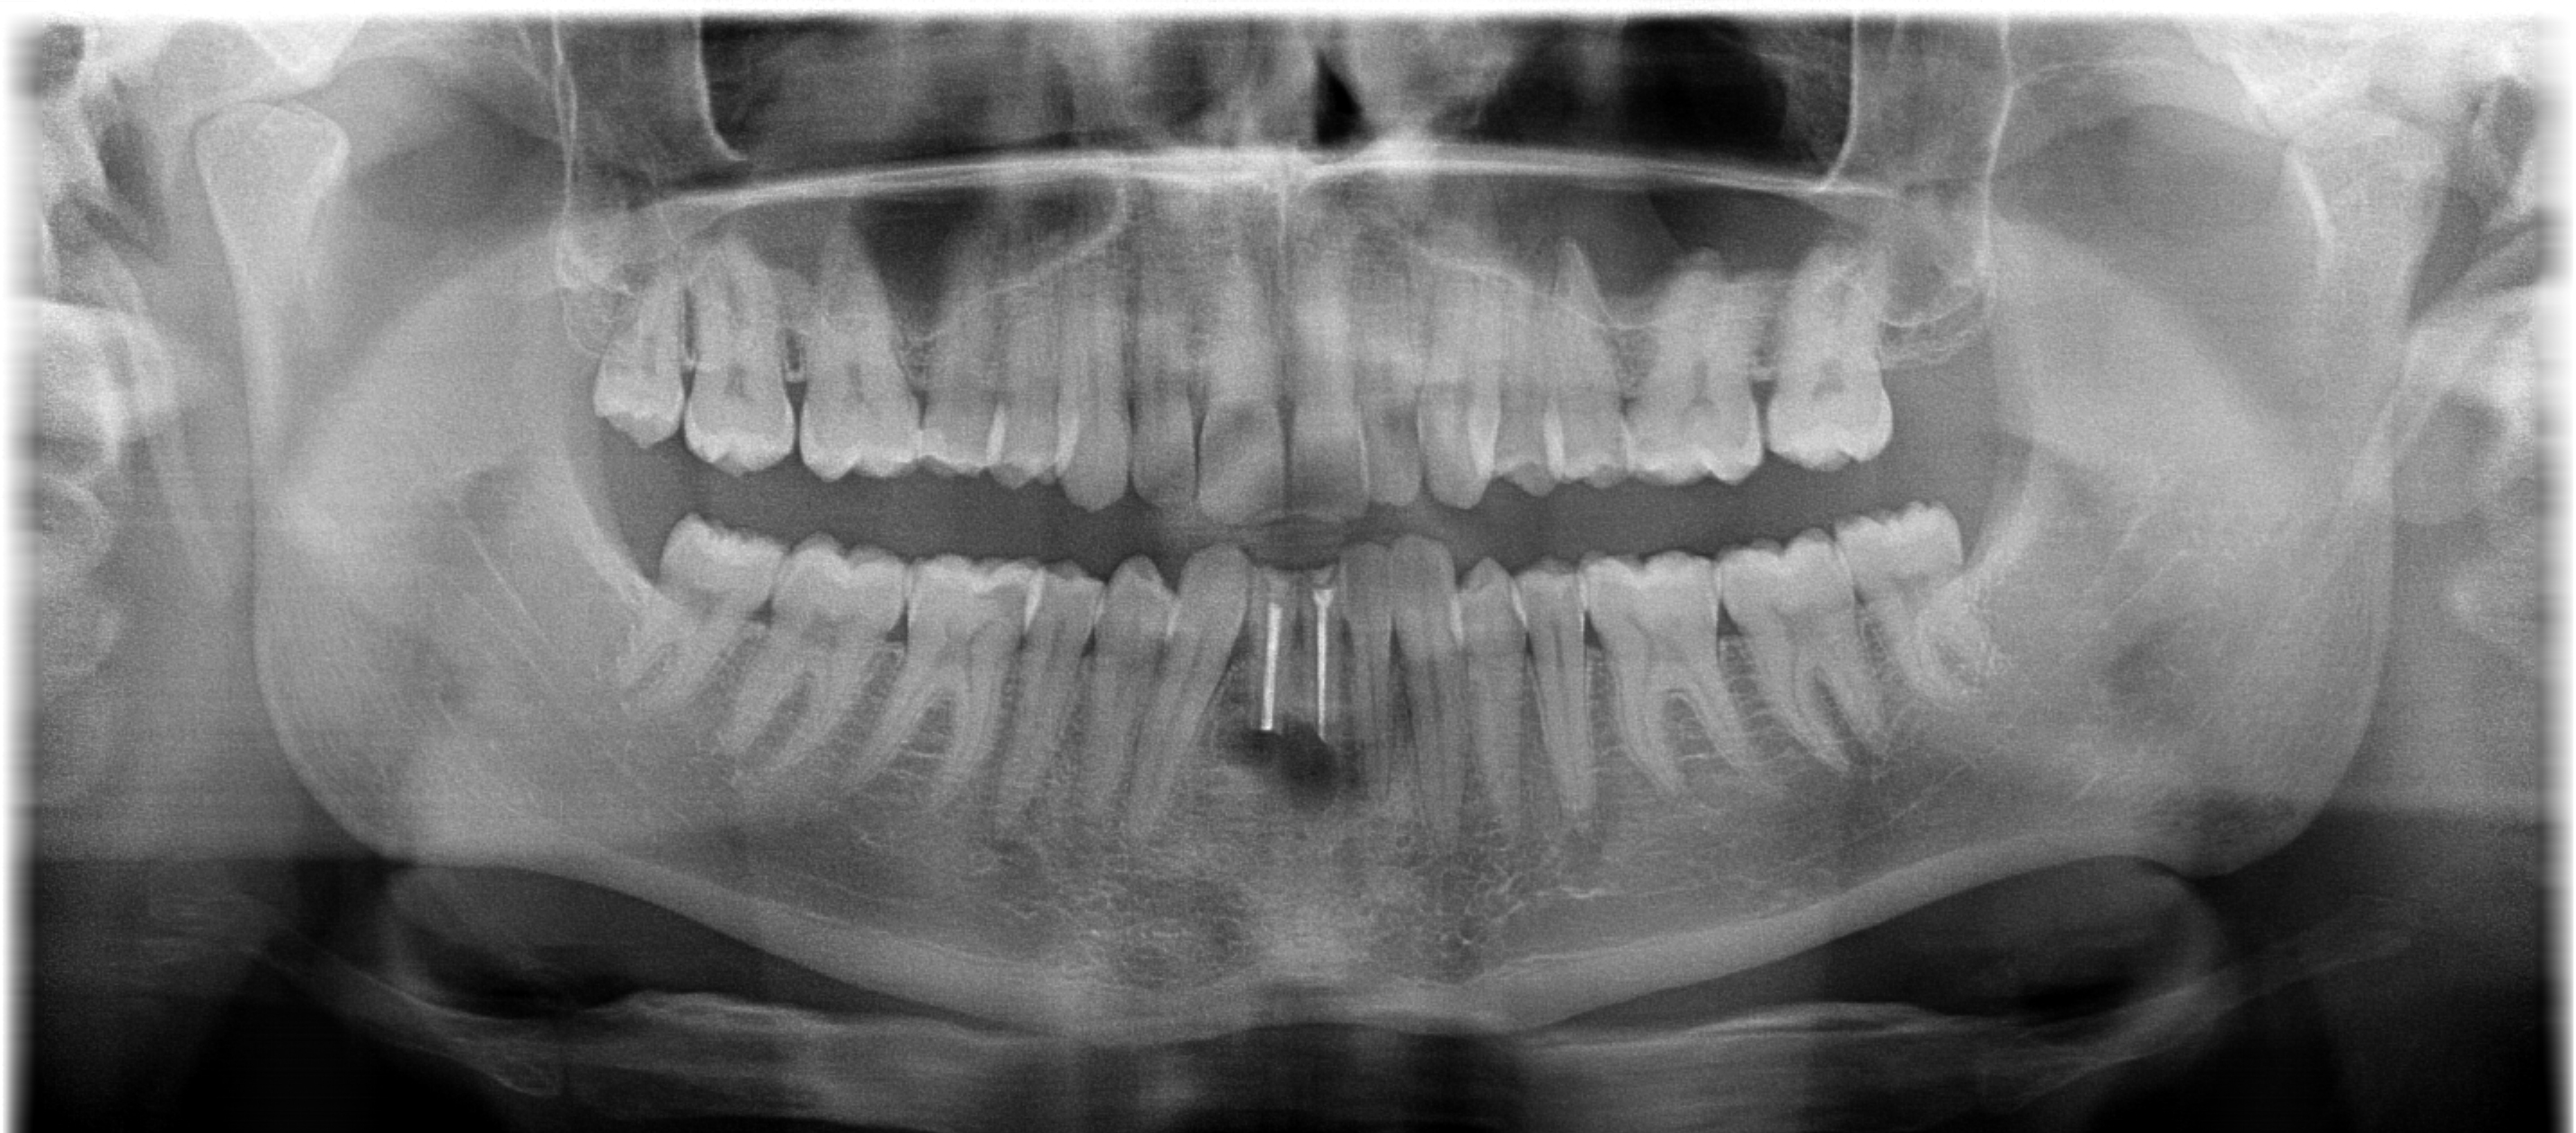apinamiento: (1337, 392, 1681, 519)
cordal: (1832, 483, 2034, 722), (608, 494, 780, 731), (562, 245, 711, 463)
tratamiento_conducto: (1290, 550, 1360, 787), (1230, 540, 1299, 770)
